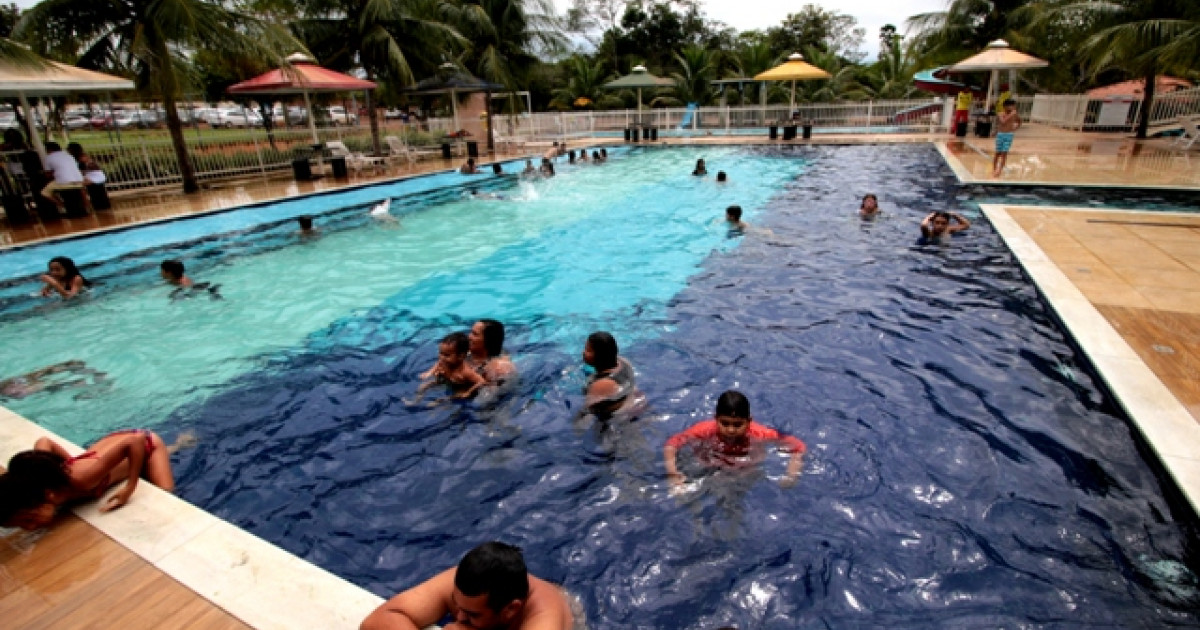Humano: (364, 535, 578, 630), (1, 424, 183, 529), (687, 386, 798, 454), (572, 331, 640, 412), (469, 315, 527, 384), (34, 255, 101, 303), (992, 92, 1024, 176), (428, 334, 474, 391), (68, 137, 115, 187), (37, 143, 78, 196)
